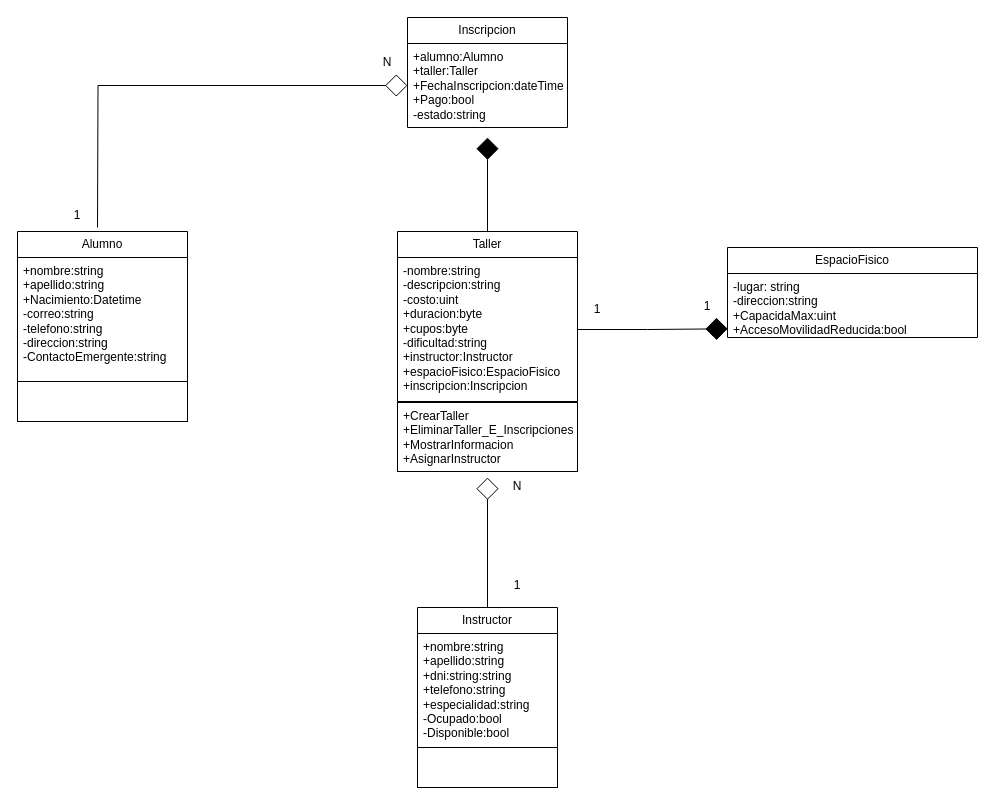
The diagram is 995 pixels wide and 808 high, and some of its shapes have lost their labels. The shapes that lost their labels are listed below. From the top down, each one's centre as x and y in pixels, then its label:
At (102,401): "+CrearAlumno +MostrarInformacion".
At (487,767): "+CrearInstructor +SetOcupado".
